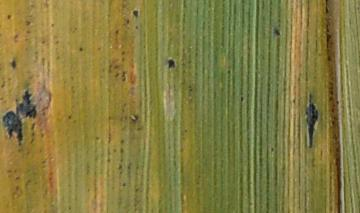tarspot: (301, 92, 320, 150), (1, 109, 24, 148), (12, 88, 40, 120), (164, 56, 178, 72), (113, 69, 127, 83), (129, 8, 141, 21), (271, 27, 282, 38), (118, 178, 129, 189), (114, 24, 121, 41), (117, 137, 128, 147), (10, 58, 18, 70), (93, 133, 102, 143), (6, 9, 13, 21), (76, 44, 85, 53), (48, 21, 57, 30), (238, 94, 246, 104), (119, 48, 127, 58), (13, 33, 21, 43), (25, 19, 33, 28), (117, 148, 125, 156), (105, 157, 113, 165), (96, 44, 104, 52), (66, 112, 73, 121), (54, 55, 62, 62), (40, 39, 46, 46), (54, 39, 60, 46)
